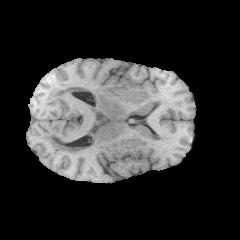glioma: (41, 82, 166, 168)
